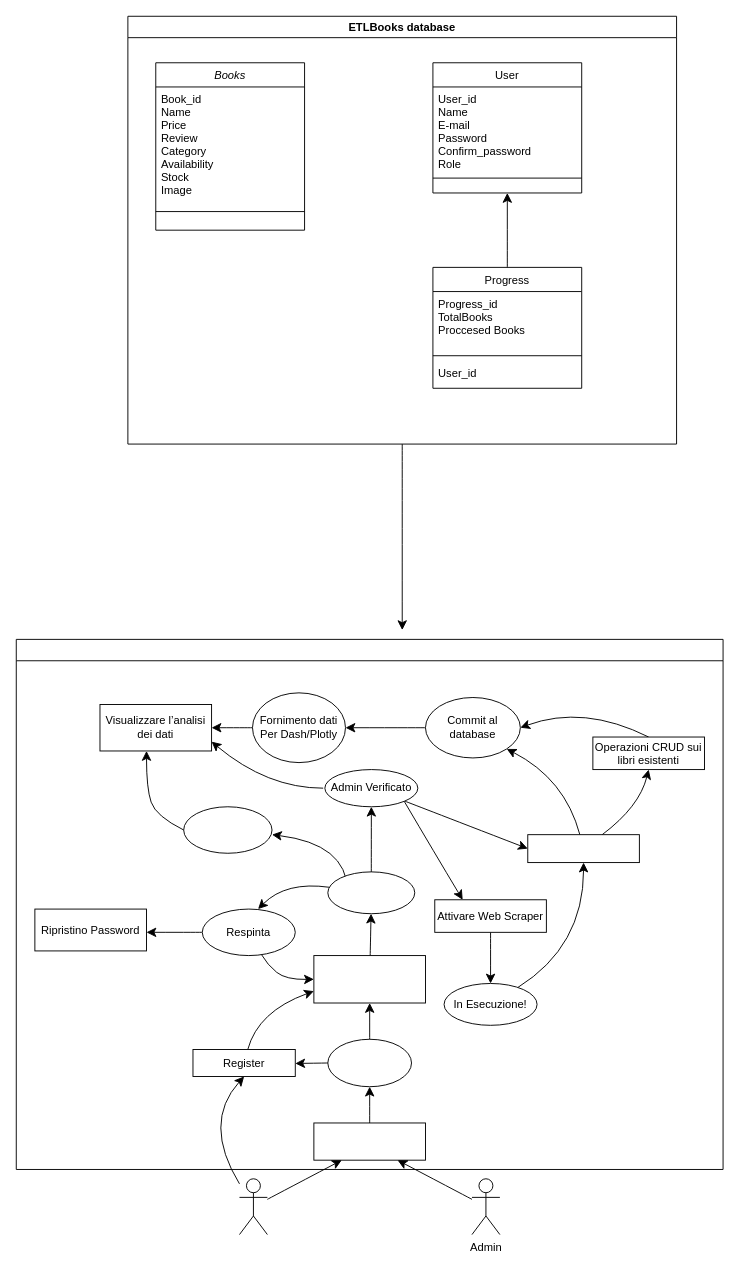
This 739x1270 diagram has some shape labels left out. The shapes that lost their labels are listed below. From the top down, each one's box as (x1, y1, x2, y2) in pixels, then its label:
(183, 806, 272, 853): Utente Verificato
(527, 834, 639, 863): Aggiungere Libro
(15, 638, 723, 1169): Vertical Container
(327, 871, 415, 914): Verifica
(313, 955, 425, 1003): Logging
(327, 1038, 412, 1087): Inizio Stato!
(313, 1122, 425, 1160): Request al sito
(239, 1178, 267, 1235): Utente
